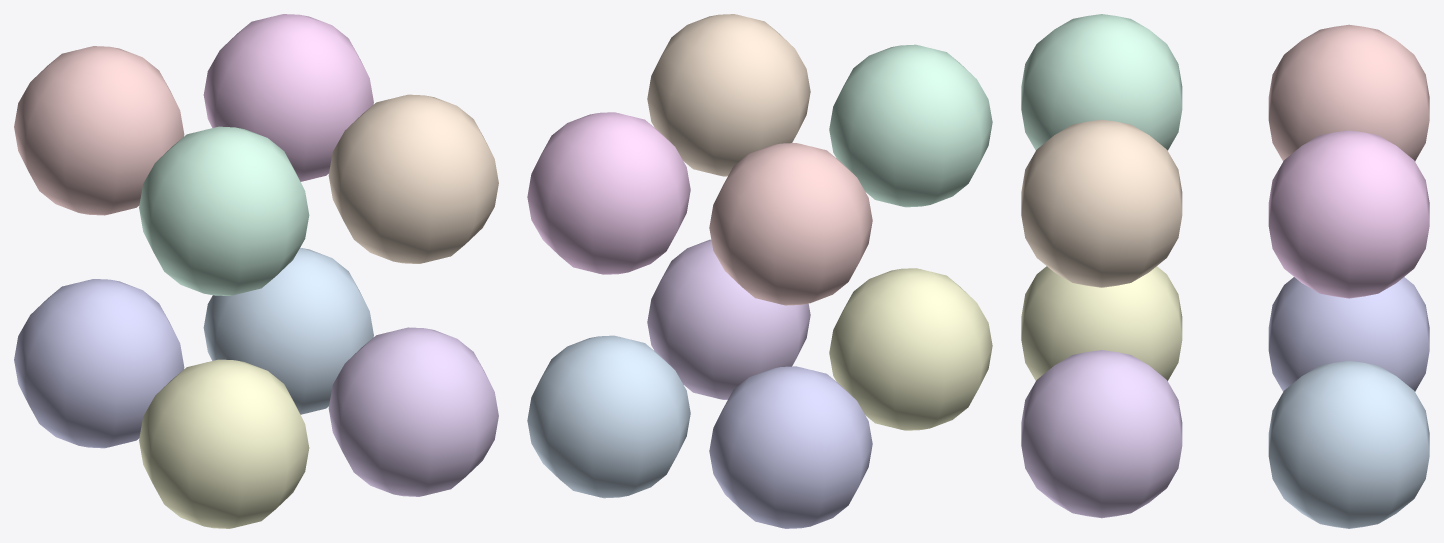
The model's file is woodrattleball.fbx.
3 renders of one model, left to right at view 1: azimuth 30°, elevation 25°; view 2: azimuth 150°, elevation 25°; view 3: azimuth 270°, elevation 25°, orthographic. The views are drawn at different scales.
Parts seen in each view (by area): view 1: Ball01, Ball02, Ball03, Ball04, Ball07, Ball05, Ball08, Ball06; view 2: Ball05, Ball06, Ball08, Ball07, Ball01, Ball03, Ball04, Ball02; view 3: Ball08, Ball04, Ball02, Ball06, Ball03, Ball07, Ball01, Ball05.
Boxes of the visible parts, box(x1,y1,x2,y2) form: Ball01: box(139, 359, 309, 528); Ball02: box(328, 327, 498, 496); Ball03: box(139, 126, 309, 295); Ball04: box(328, 94, 498, 263); Ball07: box(14, 46, 184, 215); Ball05: box(14, 279, 184, 448); Ball08: box(203, 14, 373, 181); Ball06: box(203, 247, 373, 414); Ball05: box(709, 366, 872, 528); Ball06: box(527, 335, 690, 498); Ball08: box(527, 112, 690, 274); Ball07: box(709, 143, 872, 305); Ball01: box(829, 268, 992, 430); Ball03: box(829, 44, 992, 207); Ball04: box(647, 14, 810, 176); Ball02: box(647, 239, 810, 399); Ball08: box(1268, 130, 1429, 298); Ball04: box(1021, 119, 1182, 287); Ball02: box(1021, 350, 1182, 518); Ball06: box(1268, 361, 1429, 528); Ball03: box(1021, 14, 1182, 150); Ball07: box(1268, 24, 1429, 161); Ball01: box(1021, 266, 1182, 380); Ball05: box(1268, 277, 1429, 391).
Bounding box in the file's own units: 4.56 × 5.32 × 4.82.
1 material, 1 textured.
